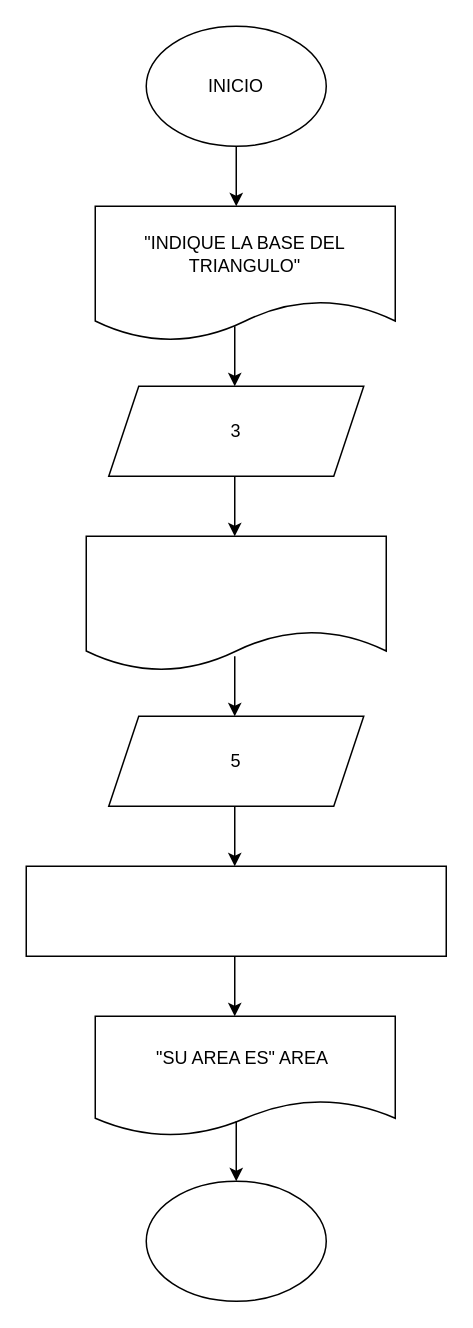
The diagram is 473 pixels wide and 1328 high, and some of its shapes have lost their labels. The box of each missing label's shape, as (x1, y1, x2, y2) in pixels:
"INDIQUE ALTURA DEL TRIÁNGULO": (85, 535, 386, 671)
FIN: (145, 1180, 326, 1301)
ÁREA 1/2*3*5: (25, 865, 446, 956)
